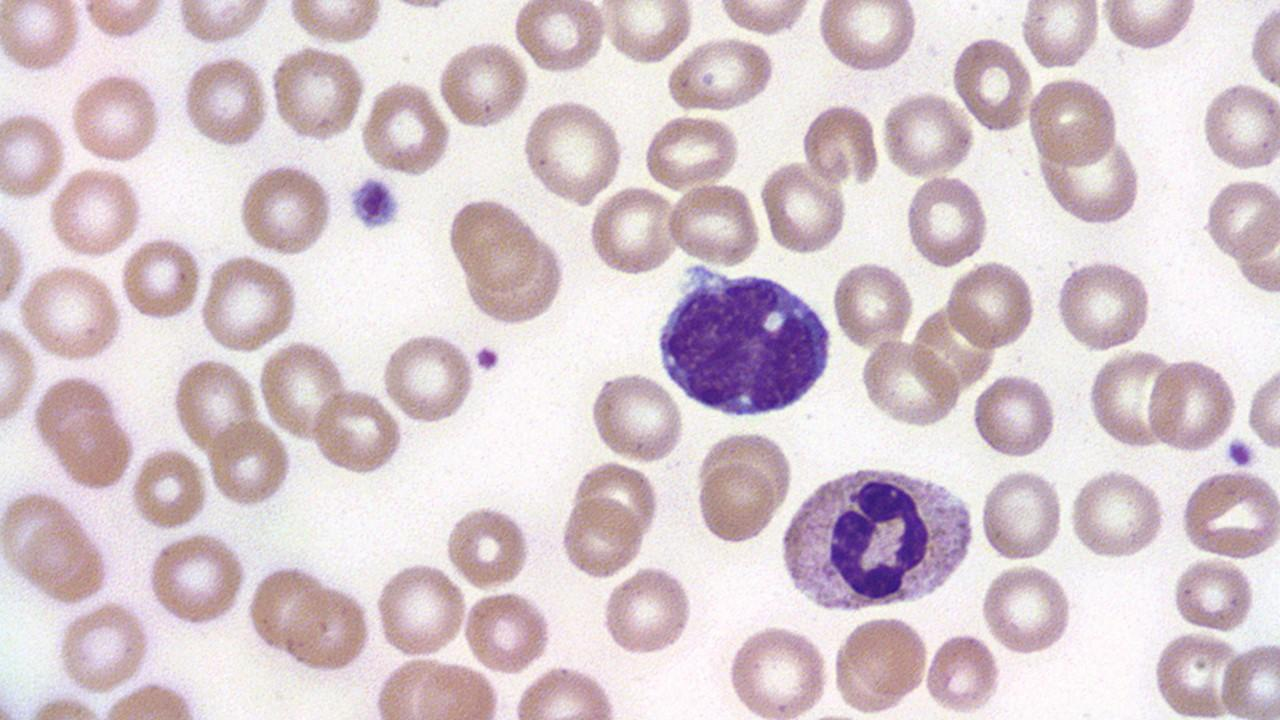Platelets: (344, 172, 403, 236), (1224, 435, 1258, 470), (472, 341, 502, 376)
RBC: (212, 72, 670, 590), (521, 96, 626, 209), (16, 262, 124, 364), (724, 620, 831, 718), (199, 254, 302, 353), (146, 529, 248, 627), (270, 43, 366, 147), (834, 610, 932, 710), (372, 558, 468, 660), (1053, 256, 1153, 353), (1177, 467, 1279, 562), (256, 338, 347, 444), (1068, 464, 1168, 560), (1025, 73, 1121, 173), (588, 368, 688, 464), (859, 337, 963, 429), (444, 193, 541, 291), (978, 560, 1076, 657), (1146, 354, 1238, 457), (237, 160, 335, 256), (1085, 348, 1175, 452), (379, 329, 476, 425), (47, 165, 144, 260), (54, 601, 152, 695), (171, 354, 259, 458), (600, 561, 694, 658), (359, 78, 452, 176), (180, 53, 272, 152), (944, 257, 1037, 354), (664, 35, 778, 114), (434, 37, 530, 130), (68, 72, 164, 164), (587, 186, 681, 279), (758, 158, 848, 255), (950, 33, 1034, 136), (280, 581, 372, 675), (881, 89, 976, 180), (978, 465, 1065, 563), (15, 519, 114, 604), (308, 387, 403, 475), (904, 172, 990, 269), (1150, 629, 1244, 717), (666, 181, 761, 268), (831, 256, 916, 352), (205, 416, 293, 508), (970, 369, 1057, 462), (639, 112, 742, 190), (462, 588, 554, 674), (1200, 77, 1280, 174), (0, 486, 84, 578), (694, 456, 778, 548), (815, 0, 920, 73), (558, 492, 643, 582), (444, 502, 530, 590), (119, 235, 204, 324), (245, 562, 324, 654), (511, 0, 606, 76), (798, 100, 881, 186), (129, 443, 209, 532), (1202, 173, 1280, 263), (52, 410, 136, 492), (924, 628, 1002, 716), (1169, 556, 1257, 632), (508, 662, 620, 720), (596, 1, 694, 67), (0, 106, 67, 202), (0, 1, 82, 77), (1019, 0, 1103, 74), (1099, 0, 1201, 55), (1220, 638, 1280, 718), (171, 1, 275, 45), (282, 2, 385, 45), (1234, 208, 1280, 297), (0, 318, 37, 428), (78, 0, 167, 43), (715, 0, 815, 36), (1244, 360, 1280, 459), (0, 204, 27, 318), (1247, 2, 1279, 91)
WBC: (776, 459, 977, 615), (653, 260, 835, 422)
